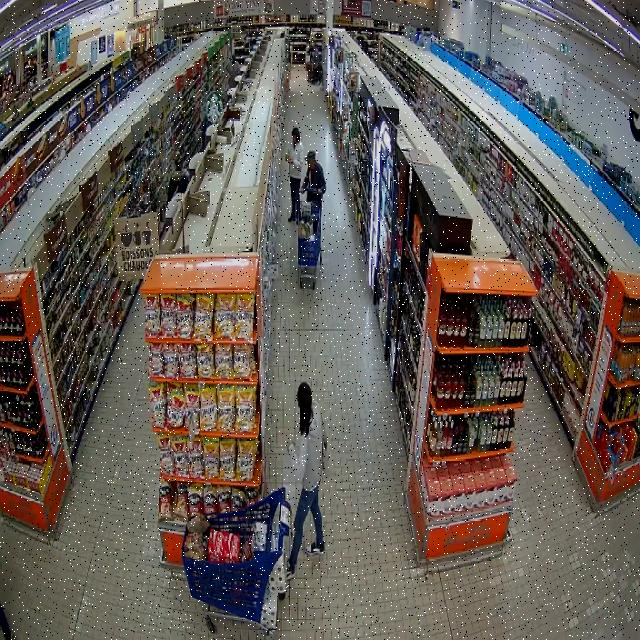article: (285, 153, 290, 162)
hands: (288, 443, 295, 453), (317, 188, 324, 194), (300, 187, 304, 193), (288, 158, 292, 164)
person: (286, 382, 329, 579), (285, 129, 304, 221), (300, 151, 325, 207)
